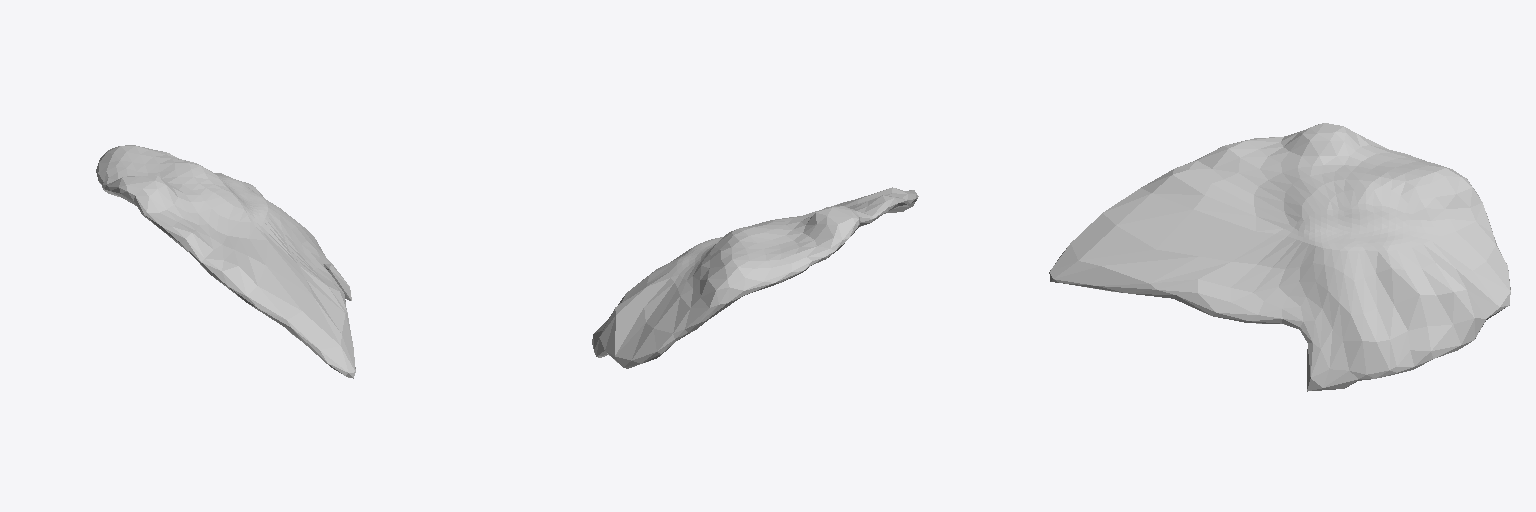
Rendered from randomLeaf.obj.
3 renders of one model, left to right at view 1: azimuth 30°, elevation 25°; view 2: azimuth 150°, elevation 25°; view 3: azimuth 270°, elevation 25°, orthographic.
Bounding box in the file's own units: 0.3374 × 0.2332 × 0.5939.